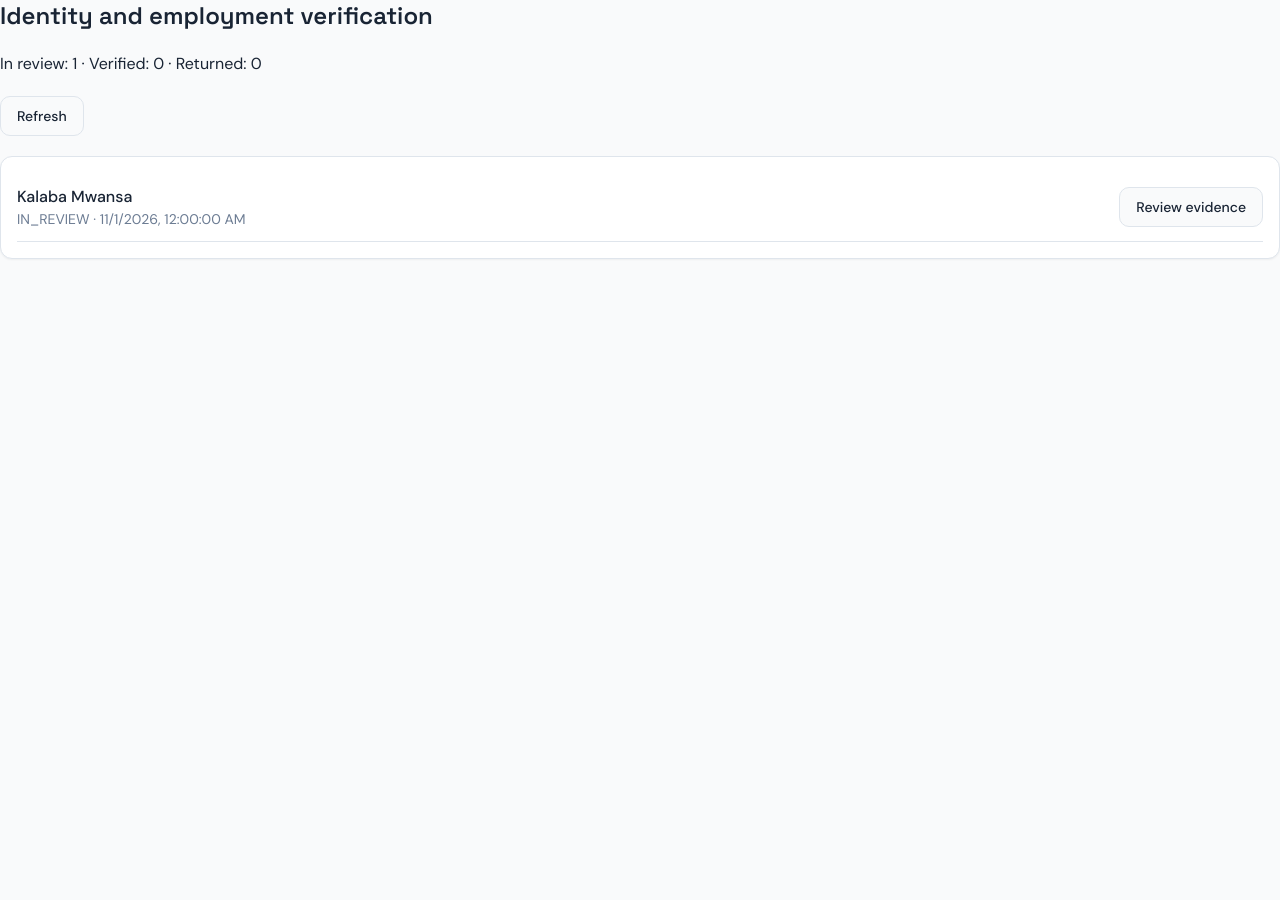
Test: shows consistency warnings from authorized evidence without making a decision
The width and height of the screenshot is (1280, 900).
Click the button "Review evidence".
click(1191, 207)  # box [1119,187,1263,227]
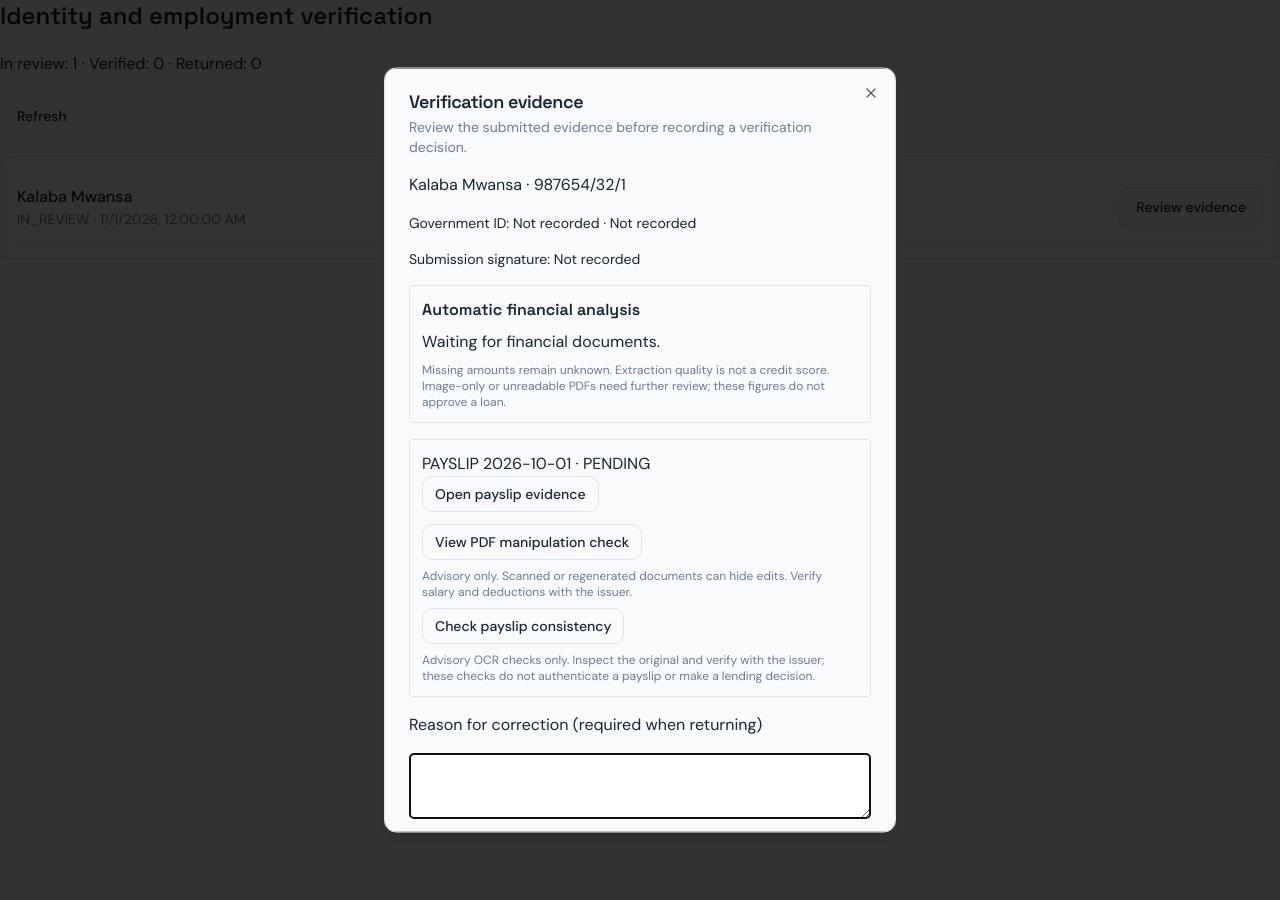
Click the button "Check payslip consistency".
click(523, 626)  # box [422,608,624,644]
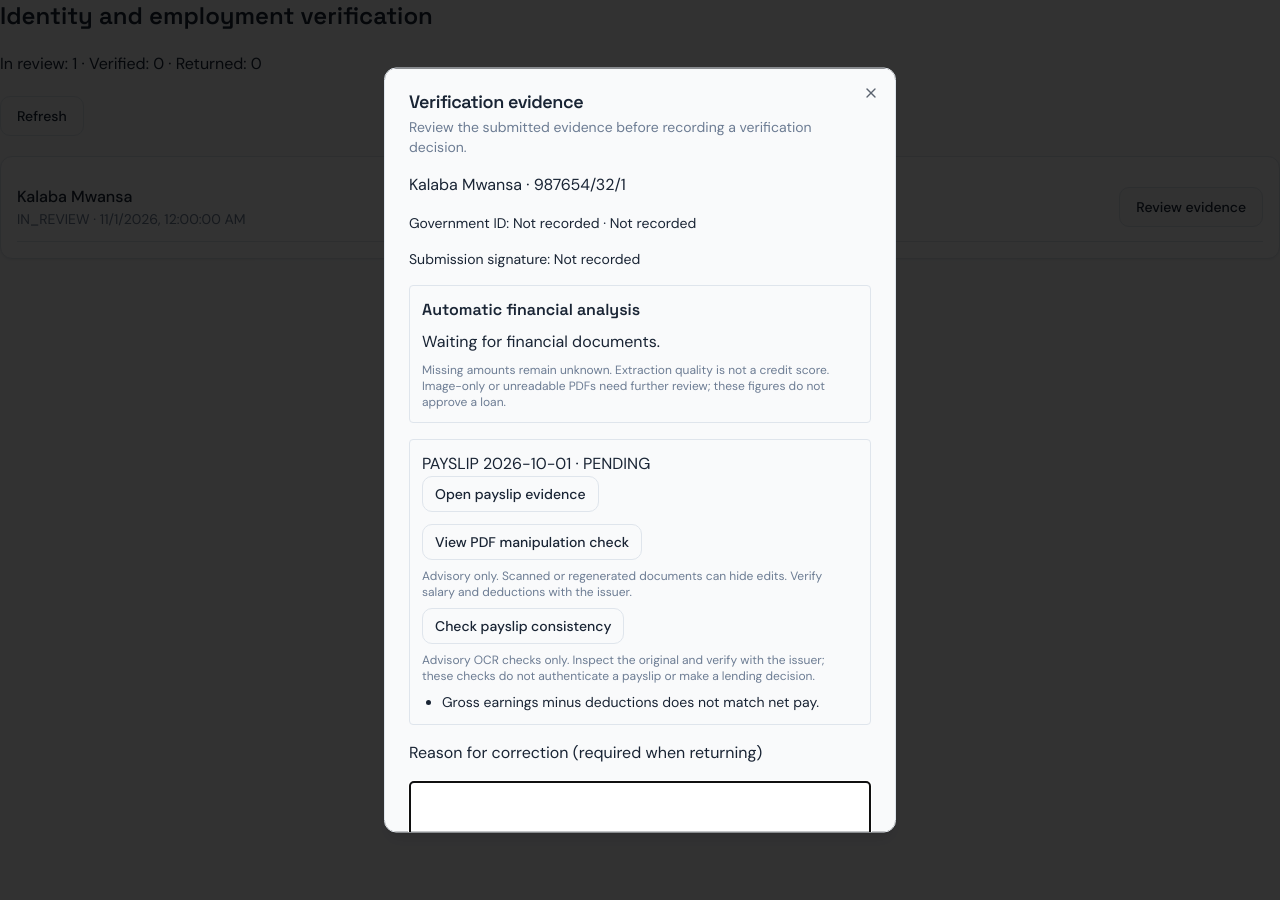
Now the list item "Gross earnings minus deductions does not match net pay." is shown, box [442,692,858,712]
